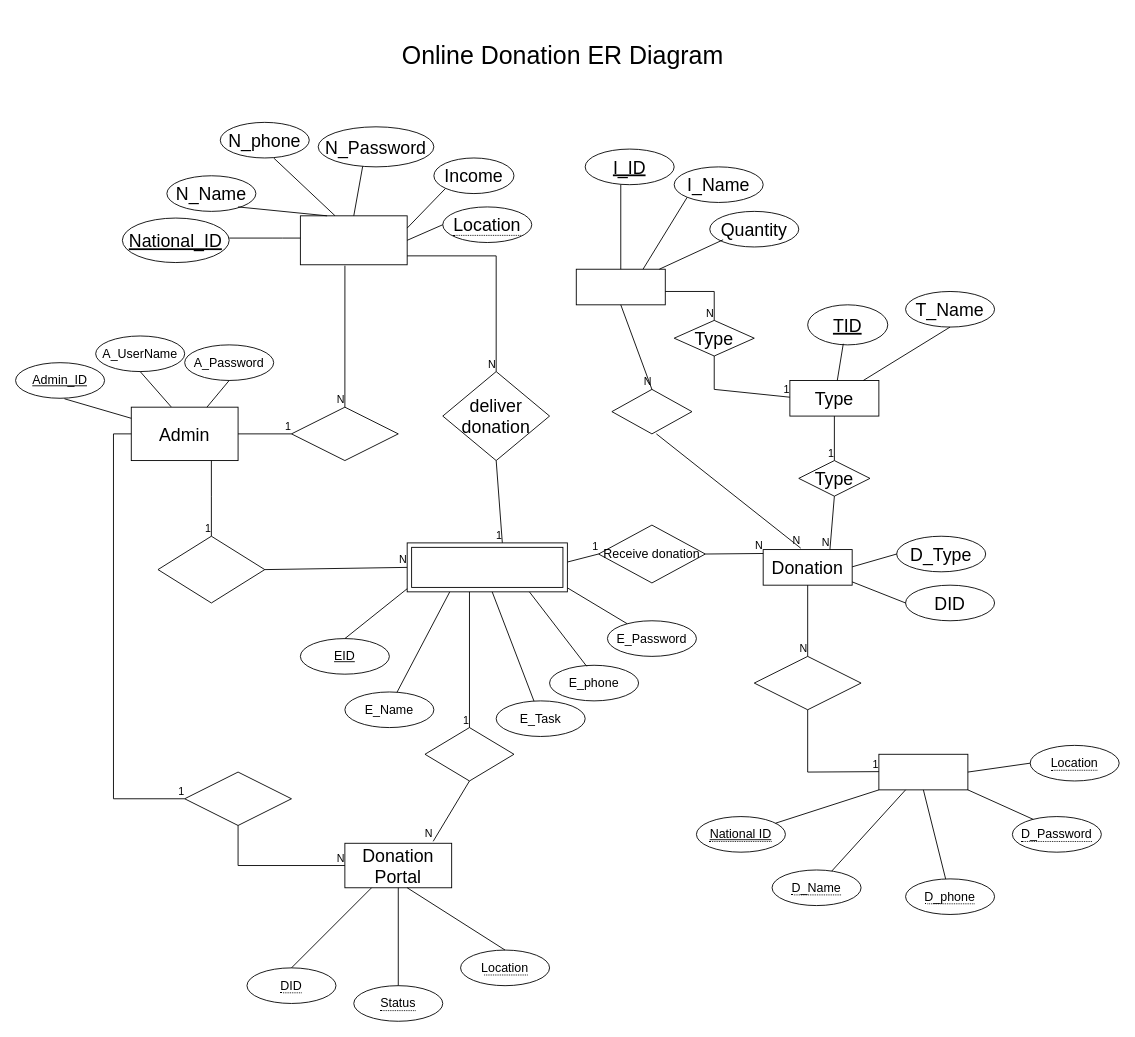
This 1135x1037 diagram has some shape labels left out. The shapes that lost their labels are listed below. From the top down, each one's centre as x and y in pixels, then its label:
At pixel 353 240: "Needy People".
At pixel 620 286: "Items".
At pixel 651 411: "Store".
At pixel 344 433: "approve".
At pixel 211 569: "Create Account".
At pixel 486 567: "Charity_Emp".
At pixel 807 682: "Make".
At pixel 469 754: "Collect".
At pixel 923 771: "Donator".
At pixel 237 798: "Register".
